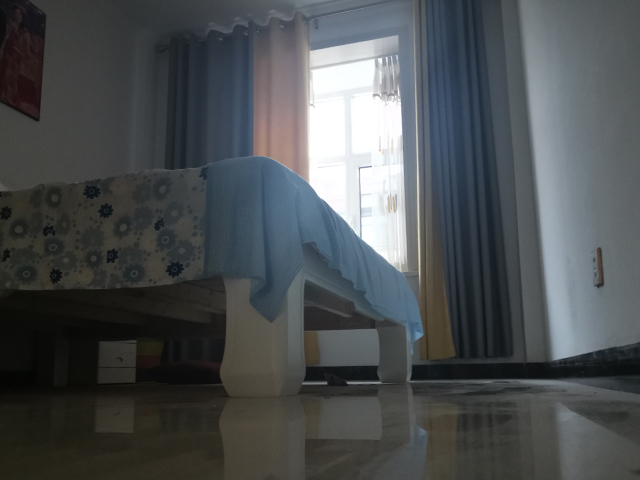bed: (1, 152, 426, 400)
cabinet: (69, 336, 140, 387)
curtain: (413, 1, 517, 362), (161, 9, 313, 176)
